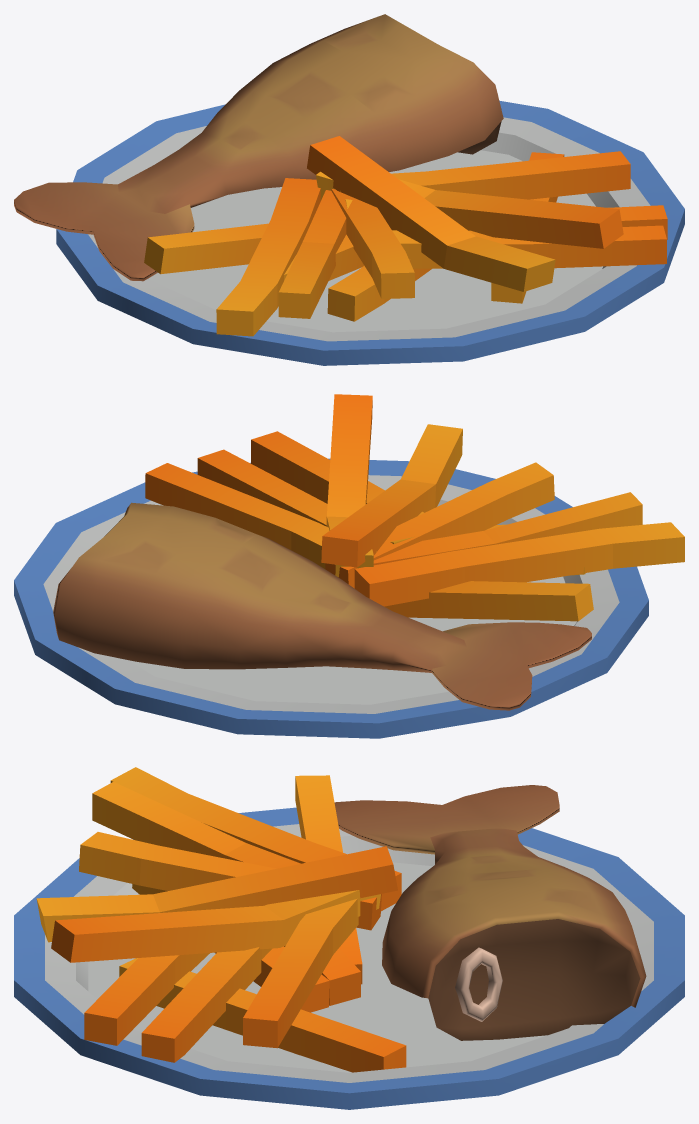
Rendered from Product FishNChips.fbx.
3 views of the same model, one above another, from view 1: azimuth 30°, elevation 25°; view 2: azimuth 150°, elevation 25°; view 3: azimuth 270°, elevation 25° (orthographic). The views are drawn at different scales.
Parts seen in each view (by area): view 1: Product_FishNChips; view 2: Product_FishNChips; view 3: Product_FishNChips.
Boxes of the visible parts, left/top/right/bottom form: Product_FishNChips: left=14, top=14, right=684, bottom=365; Product_FishNChips: left=14, top=394, right=684, bottom=738; Product_FishNChips: left=14, top=767, right=684, bottom=1109.
Bounding box in the file's own units: 164 × 37.7 × 160.
